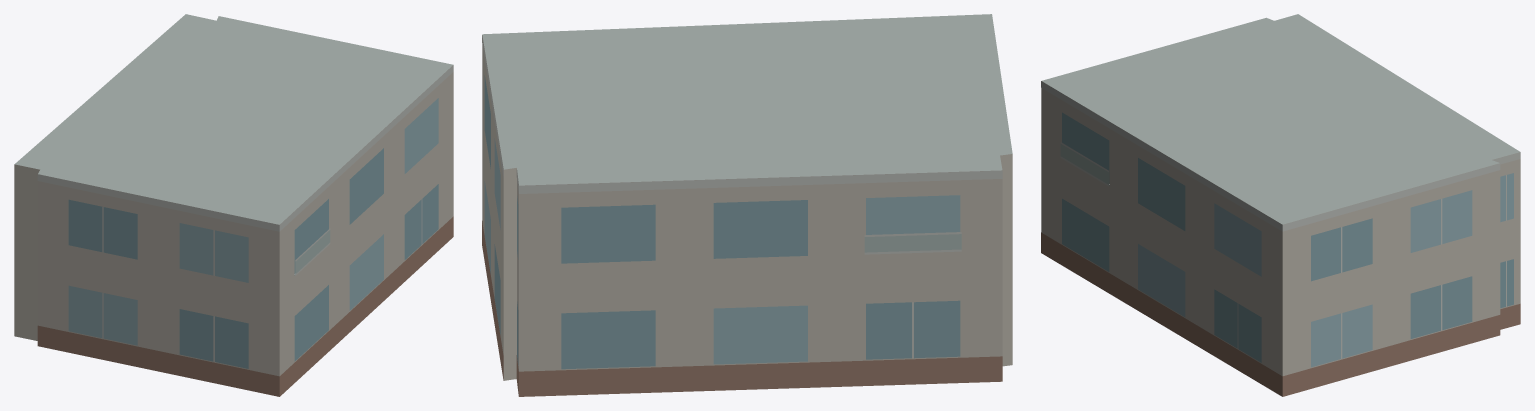
File: survey-upis-33045239.glb
3 views of the same model, side by side, from view 1: azimuth 30°, elevation 25°; view 2: azimuth 150°, elevation 25°; view 3: azimuth 270°, elevation 25° (orthographic). The views are drawn at different scales.
Parts seen in each view (by area): view 1: survey-upis-33045239.tmp; view 2: survey-upis-33045239.tmp; view 3: survey-upis-33045239.tmp.
Part boxes in pixels (x1,y1,x2,y2): survey-upis-33045239.tmp: (14, 14, 453, 396); survey-upis-33045239.tmp: (482, 14, 1012, 396); survey-upis-33045239.tmp: (1041, 14, 1520, 396).
Size of the model in its own units: 16.02 by 6.1 by 15.4.
